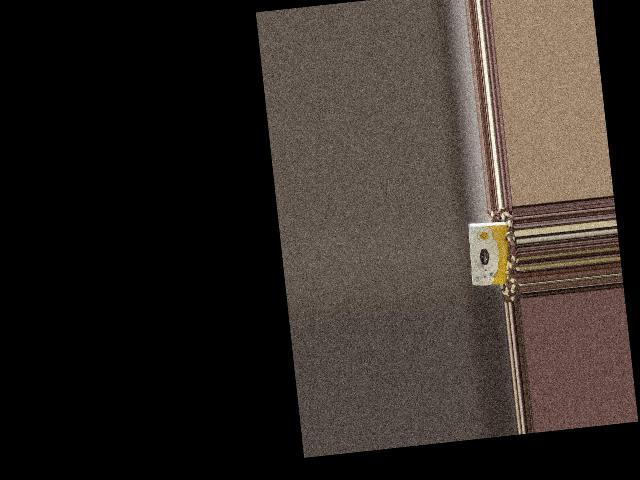chocolate: (463, 216, 515, 291)
